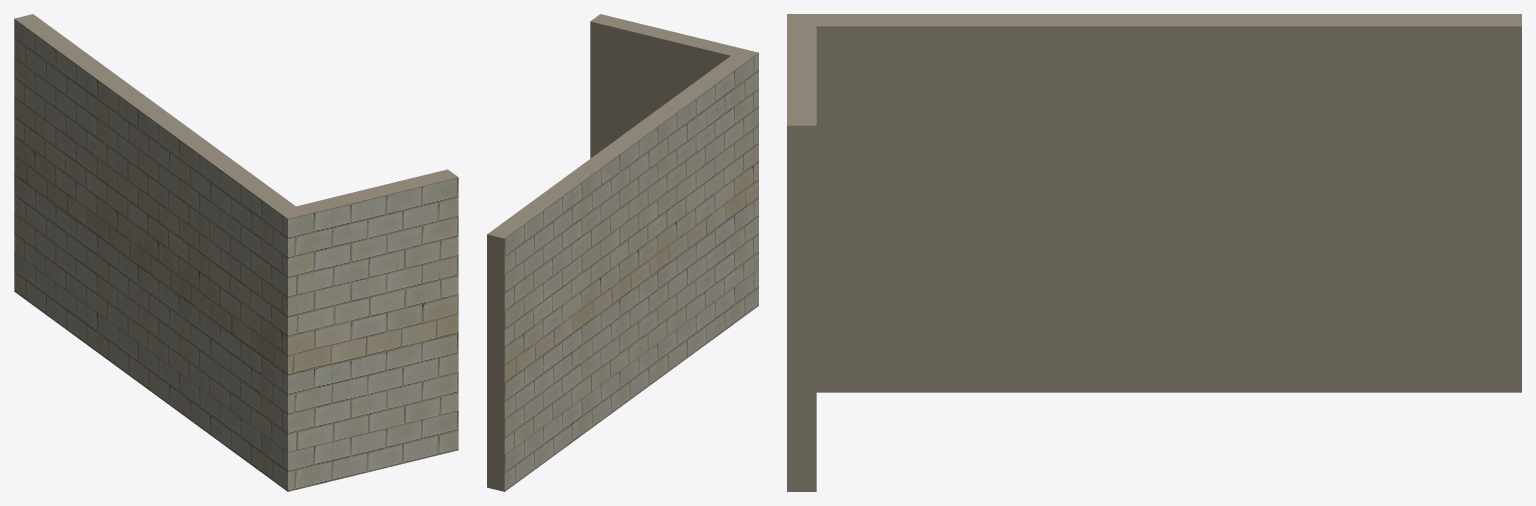
3 renders of one model, left to right at view 1: azimuth 30°, elevation 25°; view 2: azimuth 150°, elevation 25°; view 3: azimuth 270°, elevation 25°, orthographic. The views are drawn at different scales.
Visible parts, largest first — view 1: wall; view 2: wall; view 3: wall.
Part boxes in pixels (box(x1,y1,x2,y2)): wall: box(14, 14, 458, 491); wall: box(487, 14, 758, 491); wall: box(787, 14, 1521, 491).
Bounding box in the file's own units: 18 × 27.5 × 50.
